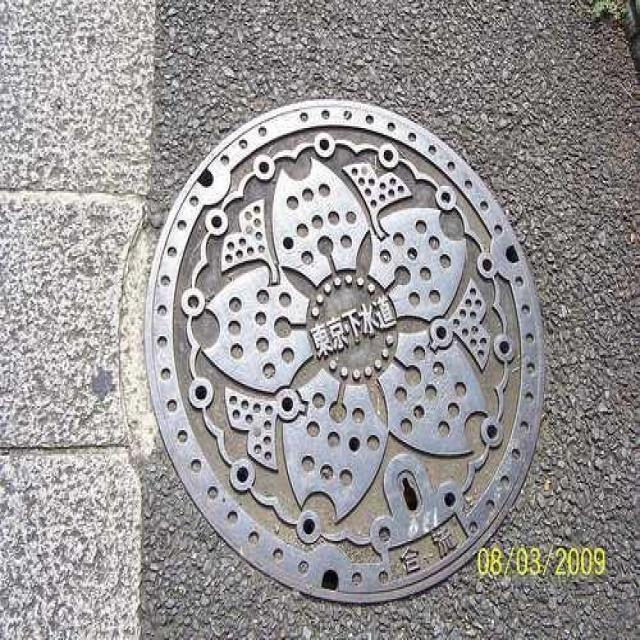manhole: (145, 100, 541, 601)
